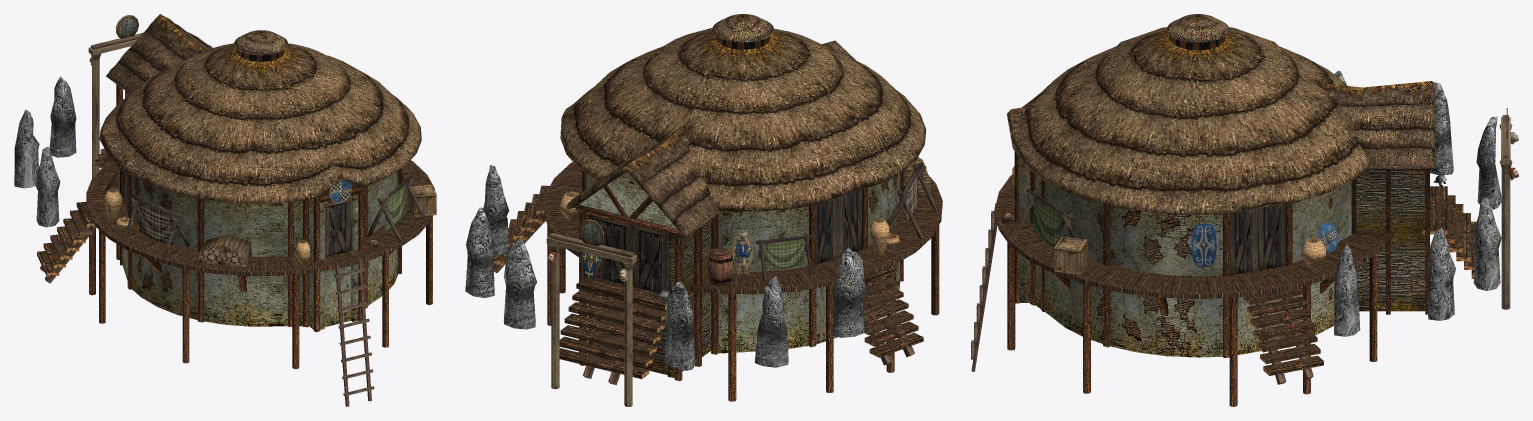
File: brit_town_center.glb
3 renders of one model, left to right at view 1: azimuth 30°, elevation 25°; view 2: azimuth 150°, elevation 25°; view 3: azimuth 270°, elevation 25°, orthographic. The views are drawn at different scales.
Visible parts, largest first — view 1: brit_town_center_part0, brit_town_center_part5, brit_town_center_part2, brit_town_center_part3, brit_town_center_part4; view 2: brit_town_center_part0, brit_town_center_part5, brit_town_center_part2, brit_town_center_part3, brit_town_center_part4; view 3: brit_town_center_part0, brit_town_center_part5, brit_town_center_part2, brit_town_center_part3, brit_town_center_part4.
Part boxes in pixels (x1,y1,x2,y2): brit_town_center_part0: [14, 14, 434, 369]; brit_town_center_part5: [99, 43, 421, 203]; brit_town_center_part2: [40, 170, 436, 406]; brit_town_center_part3: [89, 15, 426, 258]; brit_town_center_part4: [88, 32, 142, 178]; brit_town_center_part0: [465, 14, 942, 401]; brit_town_center_part5: [560, 27, 926, 211]; brit_town_center_part2: [493, 157, 930, 385]; brit_town_center_part3: [547, 162, 939, 301]; brit_town_center_part4: [546, 233, 636, 406]; brit_town_center_part0: [995, 14, 1501, 406]; brit_town_center_part5: [1007, 27, 1369, 214]; brit_town_center_part2: [971, 166, 1456, 384]; brit_town_center_part3: [1001, 108, 1518, 266]; brit_town_center_part4: [1499, 115, 1512, 309].
Size of the model in its own units: 5.65 by 4.35 by 6.2.
6 materials, 6 textured.
